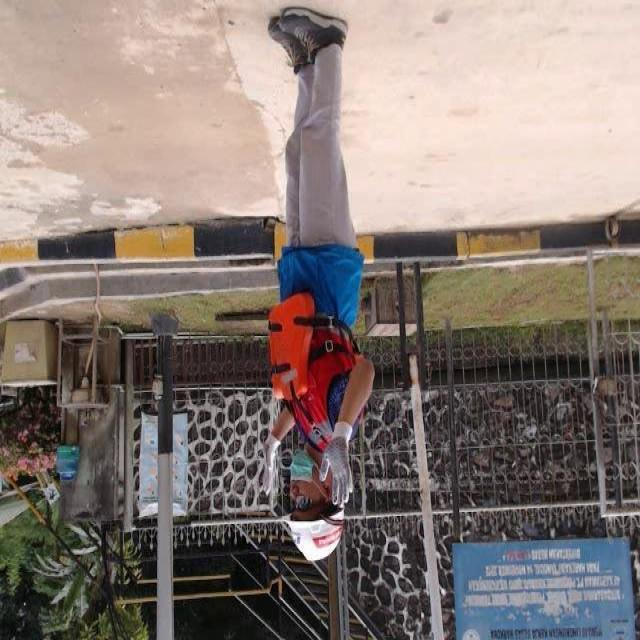helmet: (282, 507, 354, 569)
jacket: (252, 288, 378, 464)
